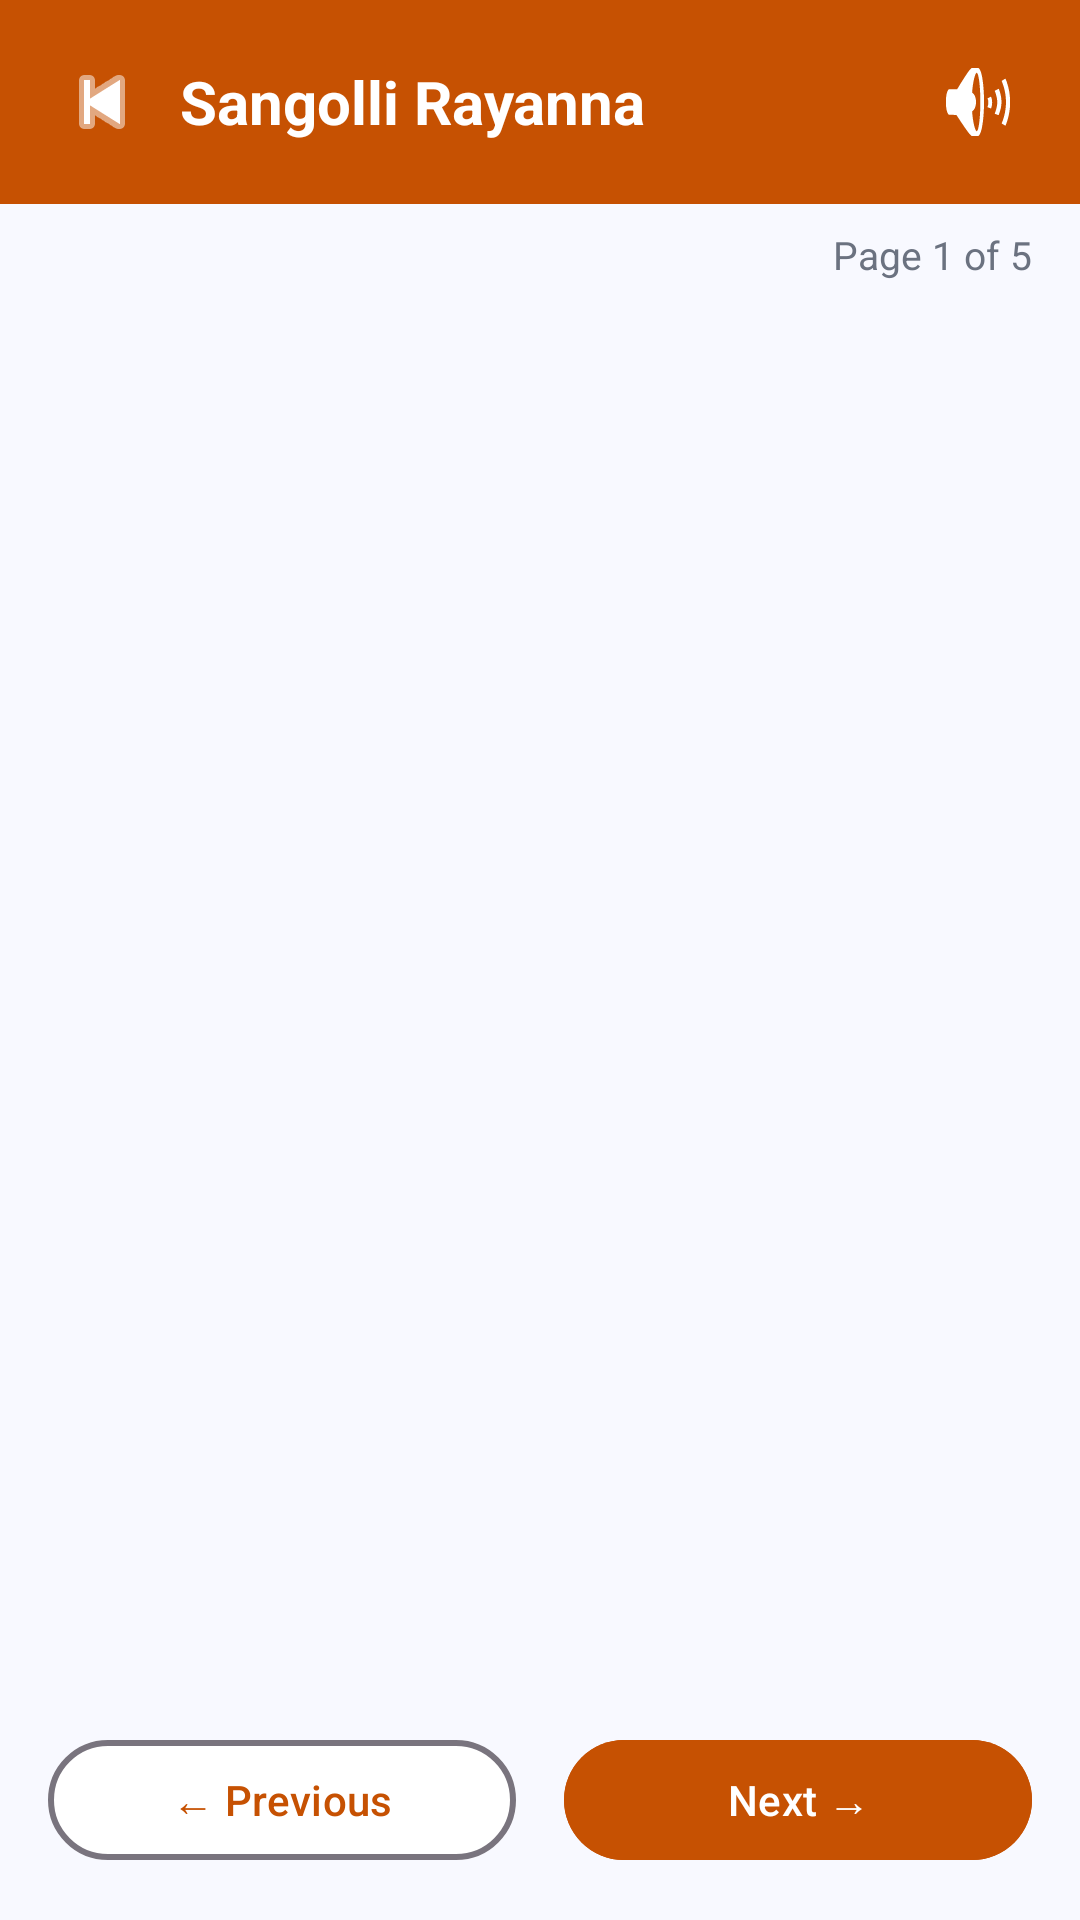

Where icons sit on this 1080px x 1920px app screen, as (x1, y1, x2, y2):
Back: (79, 75, 125, 129)
Listen: (946, 68, 1010, 136)
